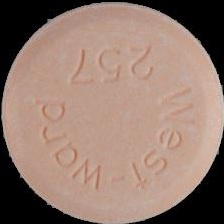0143-1257: (0, 0, 224, 224)
